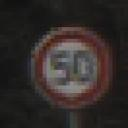speed_limit_50: (28, 23, 115, 110)
